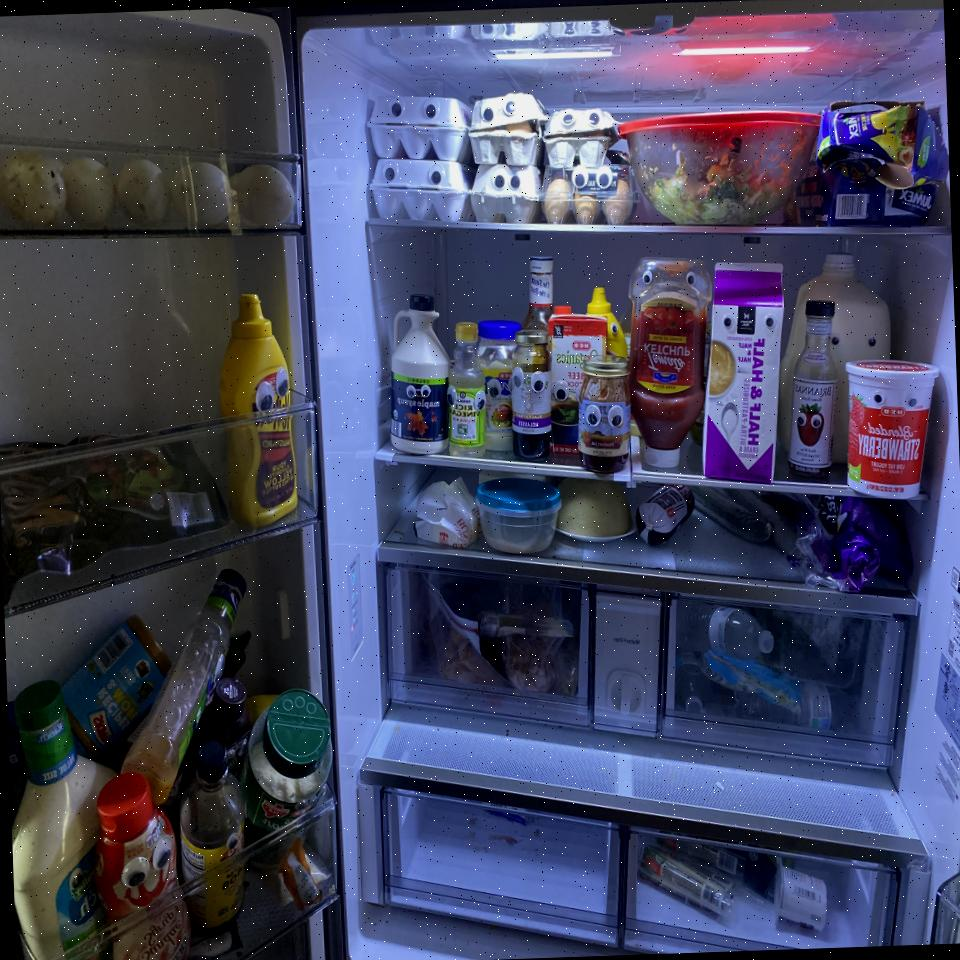Huevos: (0, 147, 292, 238), (365, 94, 473, 162), (367, 155, 469, 225), (539, 164, 638, 224), (468, 92, 548, 166), (467, 163, 542, 226), (545, 106, 616, 169)
Leche: (773, 249, 896, 459)
Mantequilla: (408, 476, 482, 552)
Pepino: (693, 483, 773, 548)
Yogur: (842, 358, 942, 500)
ketchup: (622, 255, 716, 468)
mustard: (218, 290, 298, 527)
